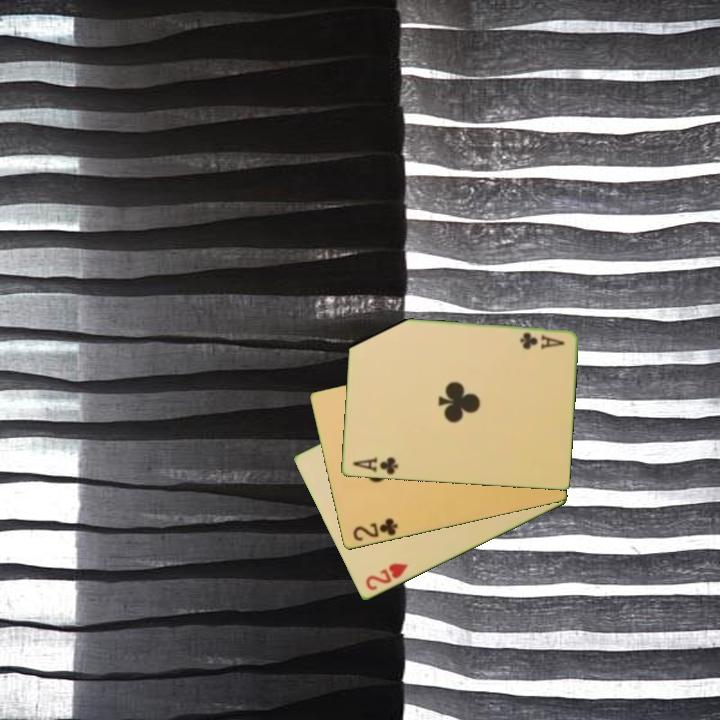2c: (349, 515, 401, 544)
2h: (362, 560, 411, 594)
Ac: (349, 454, 401, 478), (516, 329, 568, 352)
